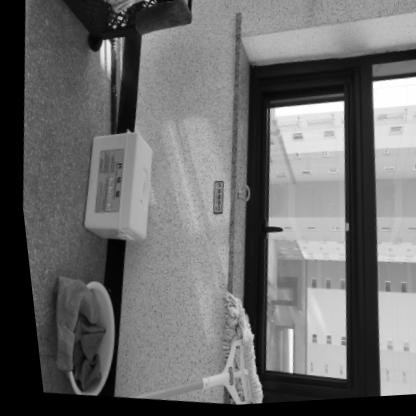DDL: (65, 126, 156, 247)
